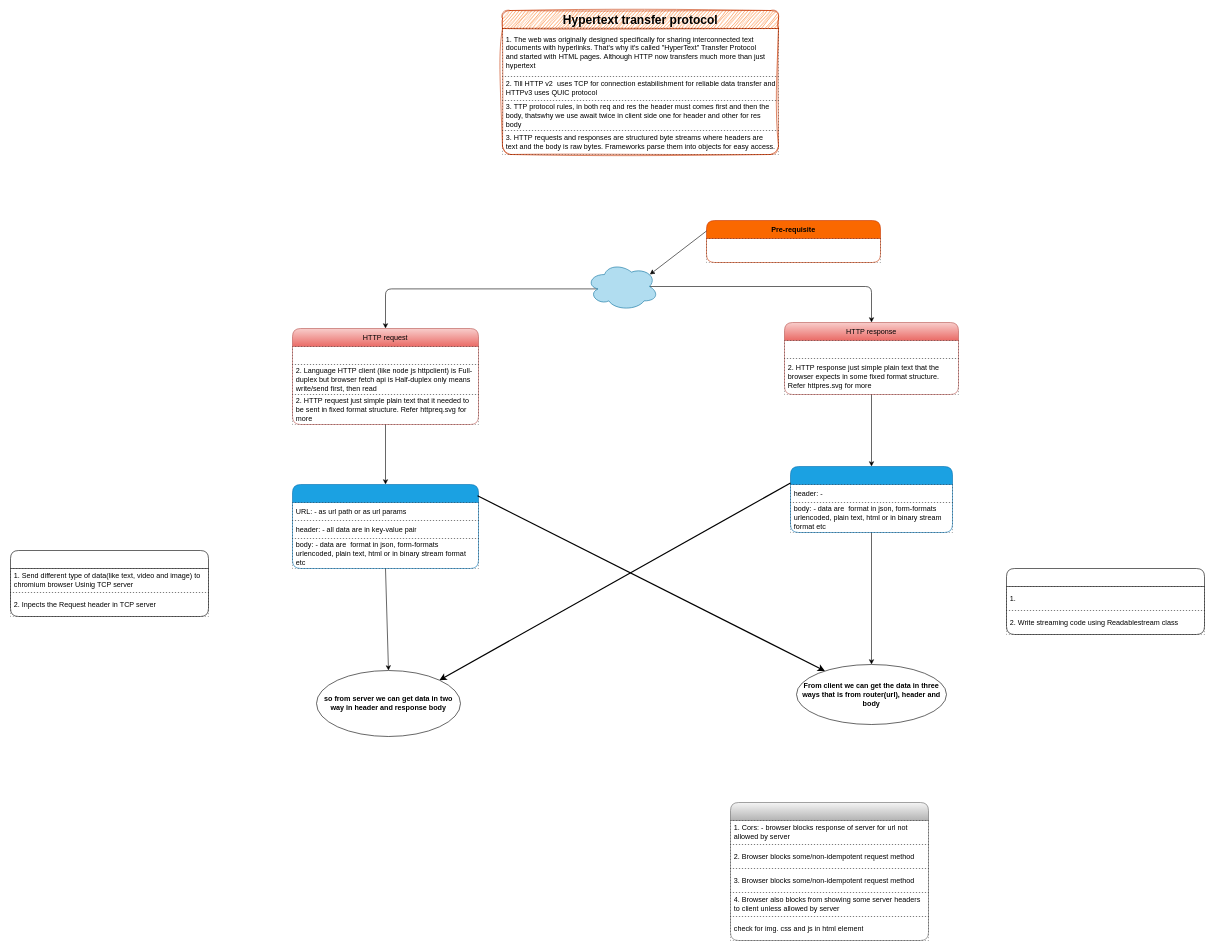
This 1215x951 diagram has some shape labels left out. The shapes that lost their labels are listed below. From the top down, each one's box as (x1, y1, x2, y2) in pixels, then its label:
(706, 238, 880, 262): 1. HTTP reponse( httpres.svg ) and request ( httpreq.svg ) structure.
(586, 262, 658, 310): HTTP
(292, 346, 478, 364): 1. HTTP request are send by the HTTP client
(784, 340, 958, 358): 1. HTTP reponse is send by the HTTP server
(790, 466, 952, 532): server can send data in
(292, 484, 478, 568): cleint can send data in
(10, 550, 208, 616): Practicals to do in HTTP request
(1006, 568, 1204, 634): Practicals to do in HTTP response
(730, 802, 928, 940): More in HTTP
